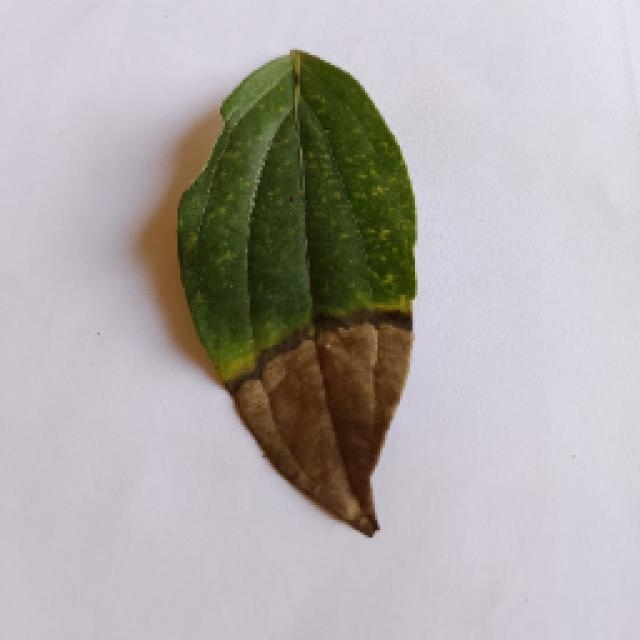footrot: (170, 50, 415, 535)
